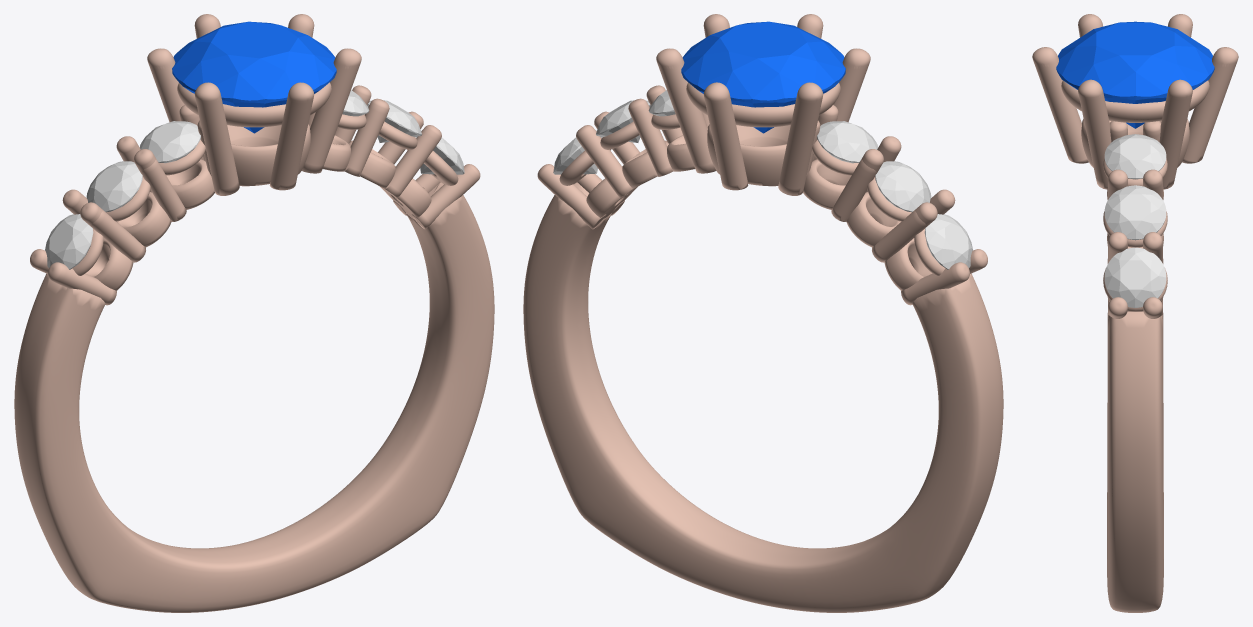
File: bluesapphire-round-rosegold-6prong-europeanshank-3stone.glb
3 views of the same model, side by side, from view 1: azimuth 30°, elevation 25°; view 2: azimuth 150°, elevation 25°; view 3: azimuth 270°, elevation 25° (orthographic). The views are drawn at different scales.
Parts seen in each view (by area): view 1: metal, stone, side, side.001, side.002, side.004, side.005; view 2: metal, stone, side, side.001, side.002, side.004, side.005; view 3: metal, stone, side.005, side.004, side.003.
Part boxes in pixels (x1,y1,x2,y2): metal: (14, 14, 494, 612); stone: (172, 21, 336, 133); side: (86, 161, 142, 212); side.001: (45, 214, 93, 269); side.002: (140, 121, 200, 163); side.004: (367, 100, 421, 142); side.005: (416, 130, 464, 174); metal: (523, 14, 1003, 612); stone: (681, 21, 845, 133); side: (875, 161, 931, 212); side.001: (924, 214, 972, 269); side.002: (817, 121, 877, 163); side.004: (596, 100, 650, 142); side.005: (553, 130, 601, 174); metal: (1032, 14, 1238, 612); stone: (1056, 21, 1214, 128); side.005: (1104, 247, 1166, 307); side.004: (1104, 185, 1166, 240); side.003: (1104, 134, 1166, 179).
Size of the model in its own units: 20.71 by 23.81 by 8.33.
